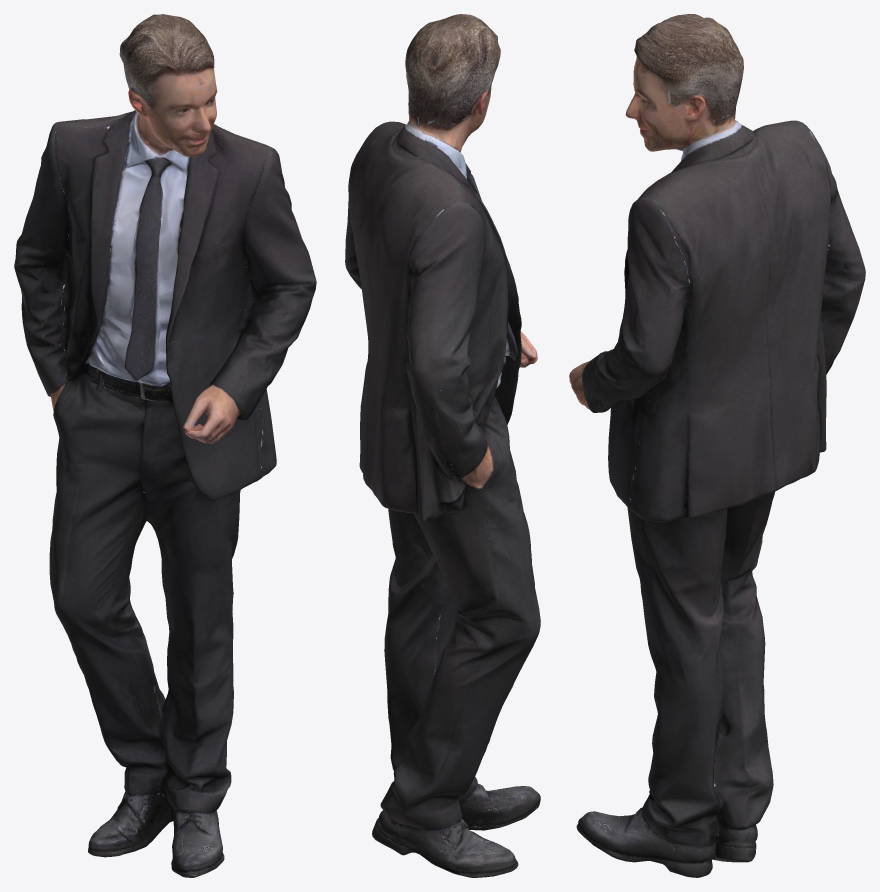
The model's file is 商务人01.glb.
3 renders of one model, left to right at view 1: azimuth 30°, elevation 25°; view 2: azimuth 150°, elevation 25°; view 3: azimuth 270°, elevation 25°, orthographic.
Parts seen in each view (by area): view 1: Geom3D; view 2: Geom3D; view 3: Geom3D.
Boxes of the visible parts, x1=… form: Geom3D: x1=14, y1=14, x2=316, y2=877; Geom3D: x1=345, y1=14, x2=540, y2=877; Geom3D: x1=569, y1=14, x2=865, y2=877.
Bounding box in the file's own units: 0.5273 × 1.86 × 0.5984.
Materials: 1 (1 with a texture image).
